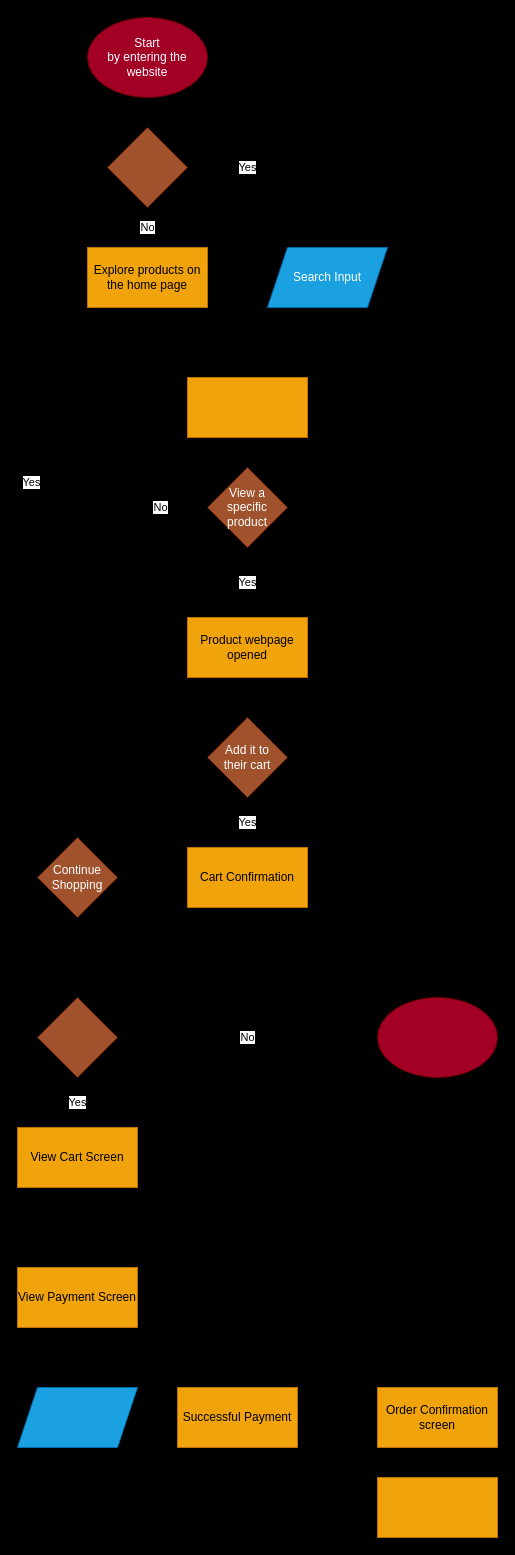
This 515x1555 diagram has some shape labels left out. Here are the shapes that lost their labels. From the top down, the box of each, then its label:
(106, 126, 188, 208): Search
(186, 376, 308, 438): Look over the Porducts
(36, 996, 118, 1078): Checkout
(376, 996, 498, 1078): Leave Website
(16, 1386, 138, 1448): give input of their payment information
(376, 1476, 498, 1538): Confirmation Email
